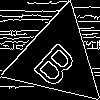B: (31, 34, 86, 90)
